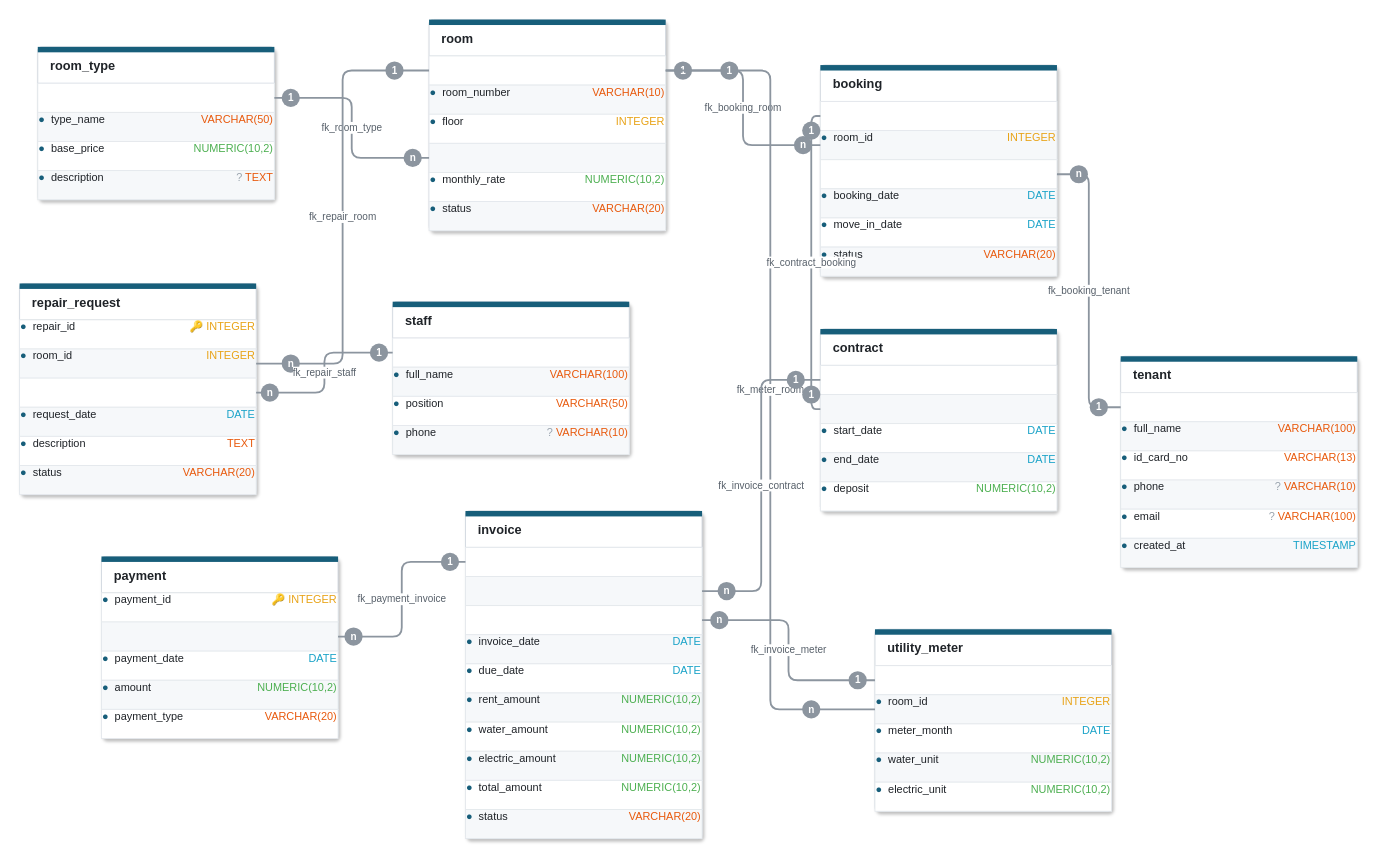
This 1379x861 diagram has some shape labels left out. The centre of each missing label's shape, as x and y in pixels:
"● booking_id INTEGER" goes at (938,409).
"● booking_id 🔑 INTEGER" goes at (938,116).
"● contract_id INTEGER" goes at (583,591).
"● contract_id 🔑 INTEGER" goes at (938,379).
"● invoice_id INTEGER" goes at (219,636).
"● invoice_id 🔑 INTEGER" goes at (583,561).
"● meter_id ? INTEGER" goes at (583,620).
"● meter_id 🔑 INTEGER" goes at (993,680).
"● room_id 🔑 INTEGER" goes at (547,70).
"● room_type_id INTEGER" goes at (547,157).
"● room_type_id 🔑 INTEGER" goes at (155,97).
"● staff_id ? INTEGER" goes at (137,392).
"● staff_id 🔑 INTEGER" goes at (510,352).
"● tenant_id INTEGER" goes at (938,174).
"● tenant_id 🔑 INTEGER" goes at (1238,407).
